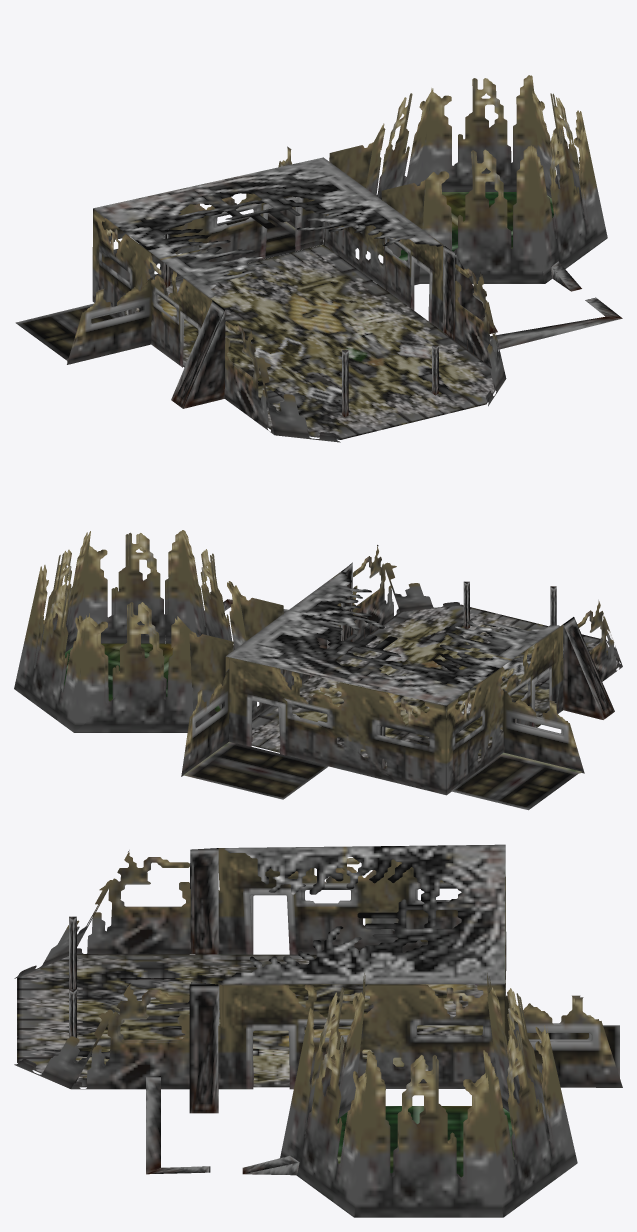
Rendered from d_turretcontrol_dam.glb.
3 views of the same model, one above another, from view 1: azimuth 30°, elevation 25°; view 2: azimuth 150°, elevation 25°; view 3: azimuth 270°, elevation 25° (orthographic). The views are drawn at different scales.
Visible parts, largest first — view 1: Dturretcontrol; view 2: Dturretcontrol; view 3: Dturretcontrol.
Boxes of the visible parts, <box> form: Dturretcontrol: <box>15,75,622,442</box>; Dturretcontrol: <box>14,530,622,810</box>; Dturretcontrol: <box>14,844,622,1217</box>.
Bounding box in the file's own units: 24.08 × 8.4 × 19.9.
Materials: 2 (2 with a texture image).
